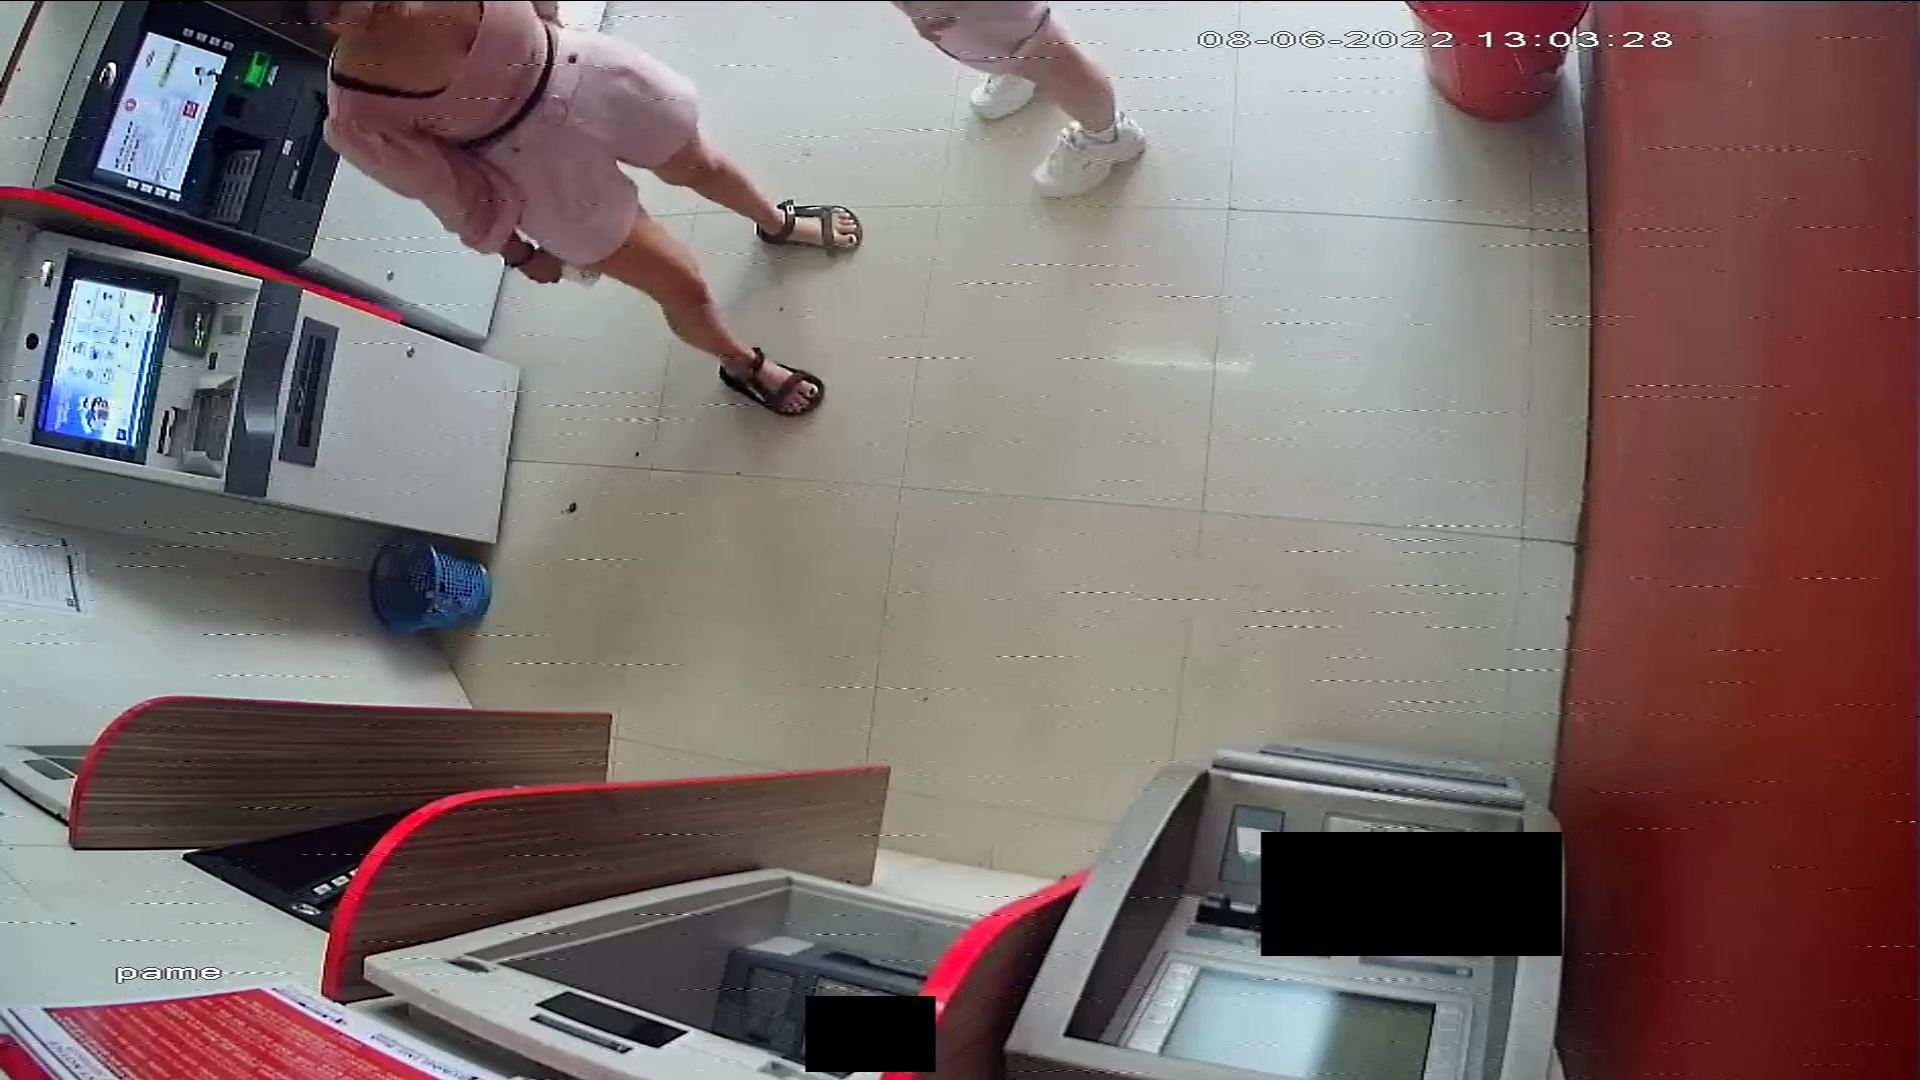person: (311, 1, 862, 422), (889, 1, 1149, 199)
